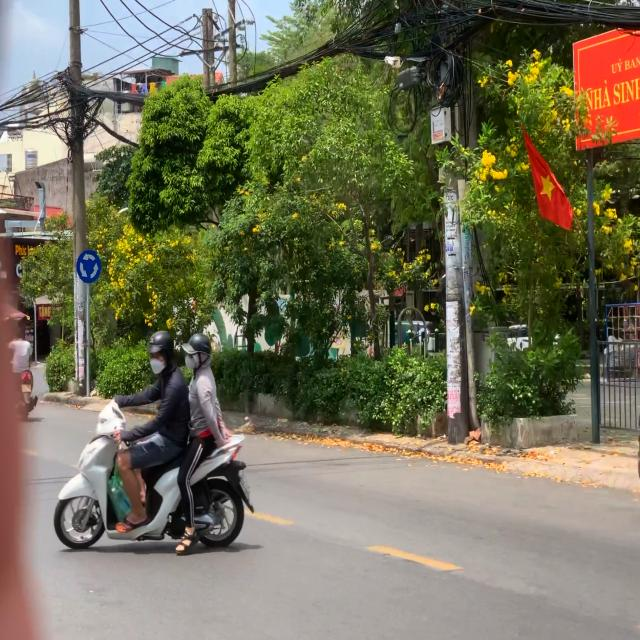Vong xuyen: (76, 250, 102, 284)
